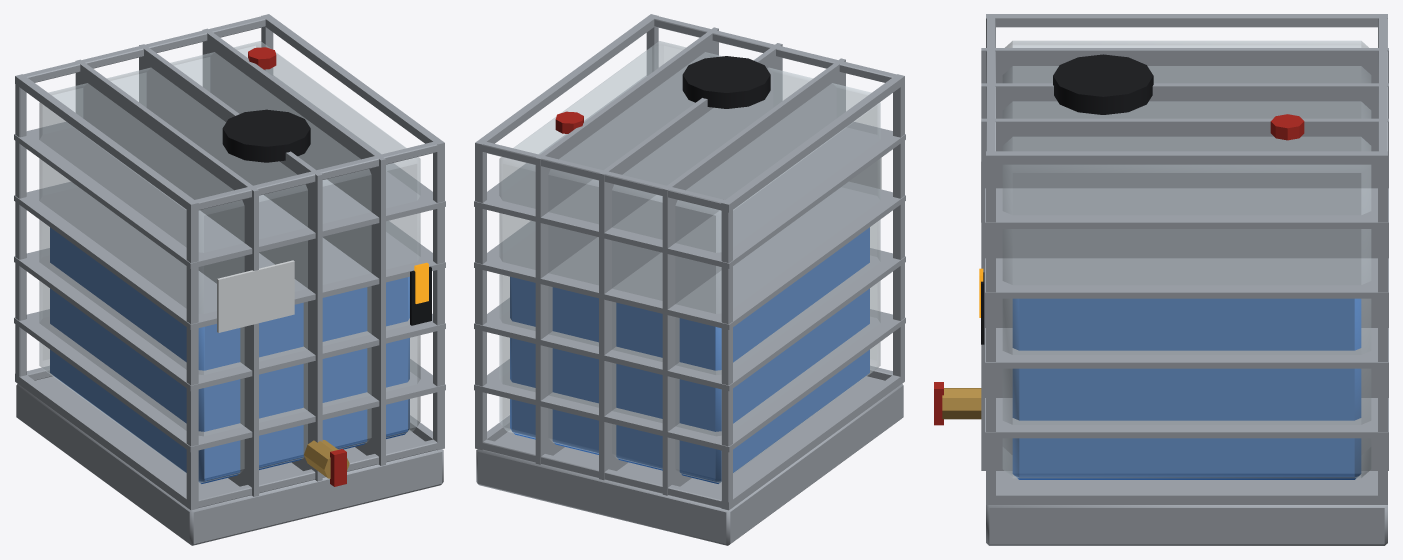
Rendered from barrel_ibc_tote_steel.glb.
3 renders of one model, left to right at view 1: azimuth 30°, elevation 25°; view 2: azimuth 150°, elevation 25°; view 3: azimuth 270°, elevation 25°, orthographic. The views are drawn at different scales.
Visible parts, largest first — view 1: barrel_ibc_tote_steel; view 2: barrel_ibc_tote_steel; view 3: barrel_ibc_tote_steel.
Part boxes in pixels (x1,y1,x2,y2): barrel_ibc_tote_steel: (14, 14, 445, 545); barrel_ibc_tote_steel: (474, 14, 905, 545); barrel_ibc_tote_steel: (934, 14, 1388, 545).
Bounding box in the file's own units: 1 × 1.32 × 1.36.
